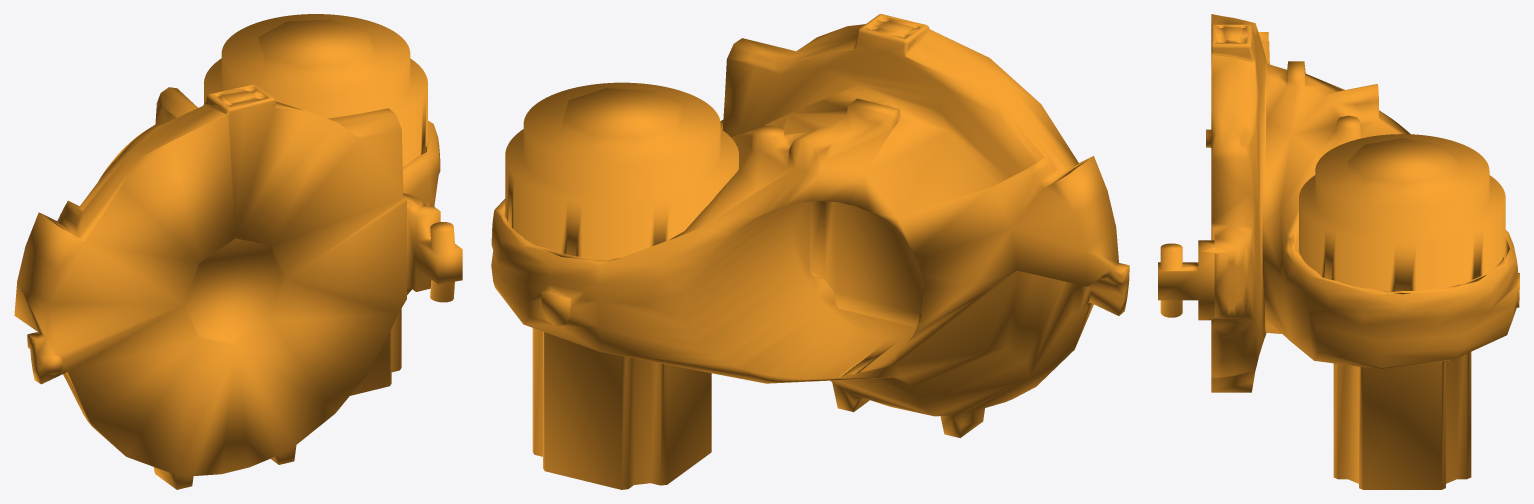
File: KukaKR5ArcLink1.dae
3 views of the same model, side by side, from view 1: azimuth 30°, elevation 25°; view 2: azimuth 150°, elevation 25°; view 3: azimuth 270°, elevation 25° (orthographic). The views are drawn at different scales.
Visible parts, largest first — view 1: link1; view 2: link1; view 3: link1.
Boxes of the visible parts, box(x1,y1,x2,y2) form: link1: box(14, 14, 462, 489); link1: box(491, 14, 1129, 489); link1: box(1158, 14, 1519, 489).
Bounding box in the file's own units: 0.4826 × 0.3325 × 0.3705.
